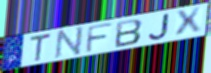B: (114, 17, 144, 49)
F: (84, 22, 114, 54)
J: (147, 12, 171, 41)
N: (53, 25, 86, 61)
T: (28, 32, 52, 63)
X: (174, 6, 203, 39)
